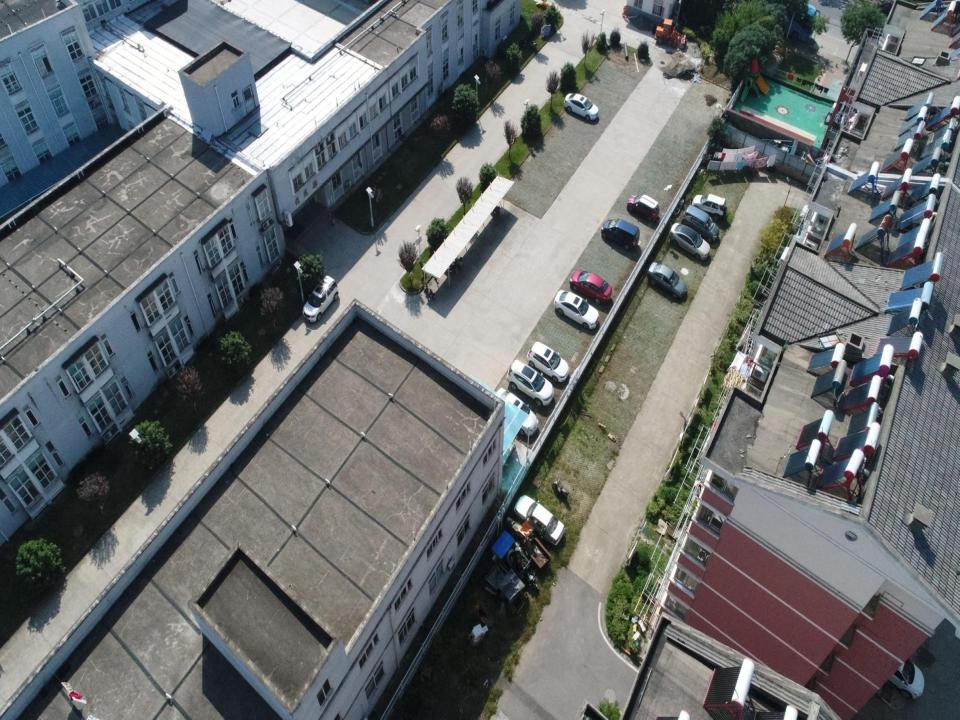car: (513, 494, 564, 546), (507, 359, 554, 406), (492, 388, 538, 436), (302, 274, 339, 322), (526, 341, 569, 382), (554, 290, 599, 329), (668, 222, 710, 260), (647, 262, 687, 299), (570, 270, 612, 304), (626, 194, 660, 223), (564, 93, 599, 121), (692, 194, 726, 221)
van: (681, 204, 719, 243), (601, 219, 640, 250)
